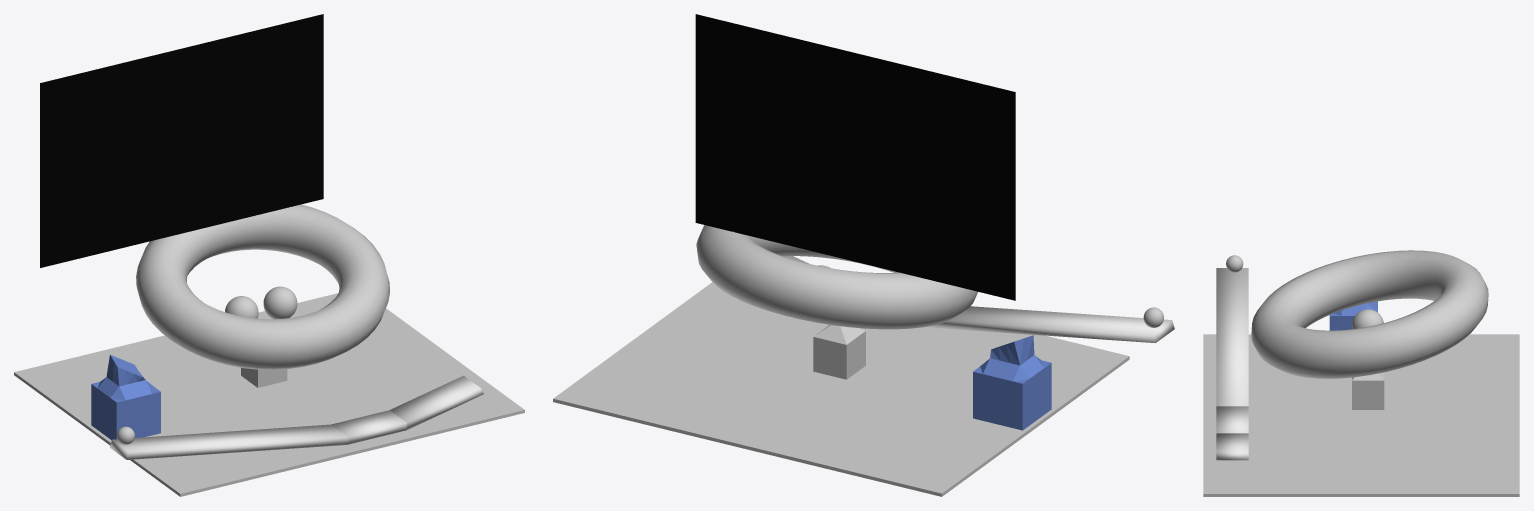
The model's file is desk_ball.dae.
The picture shows the model from 3 angles, left to right: view 1: azimuth 30°, elevation 25°; view 2: azimuth 150°, elevation 25°; view 3: azimuth 270°, elevation 25°; orthographic projection. The views are drawn at different scales.
Parts seen in each view (by area): view 1: Plane, table, torus_soft, Cube1, Cube, Cube3, Cube2, ball1, desk, ball; view 2: Plane, table, torus_soft, Cube, Cube1, desk; view 3: table, torus_soft, Cube1, desk, Cube2, Cube3, Cube, ball.
Boxes of the visible parts, <box> form: Plane: <box>40,14,323,267</box>; table: <box>14,293,524,496</box>; torus_soft: <box>136,204,389,369</box>; Cube1: <box>109,424,347,459</box>; Cube: <box>91,354,160,439</box>; Cube3: <box>390,375,483,429</box>; Cube2: <box>331,410,406,444</box>; ball1: <box>263,286,297,319</box>; desk: <box>241,368,287,387</box>; ball: <box>225,296,258,318</box>; Plane: <box>695,14,1015,300</box>; table: <box>553,282,1129,496</box>; torus_soft: <box>696,225,977,329</box>; Cube: <box>973,335,1051,430</box>; Cube1: <box>924,306,1174,342</box>; desk: <box>813,325,865,379</box>; table: <box>1203,334,1519,496</box>; torus_soft: <box>1251,250,1488,378</box>; Cube1: <box>1216,268,1248,406</box>; desk: <box>1352,372,1384,409</box>; Cube2: <box>1216,406,1248,433</box>; Cube3: <box>1216,433,1248,460</box>; Cube: <box>1329,301,1377,330</box>; ball: <box>1352,309,1383,329</box>.
Size of the model in its own units: 26.58 by 19.56 by 21.42.
